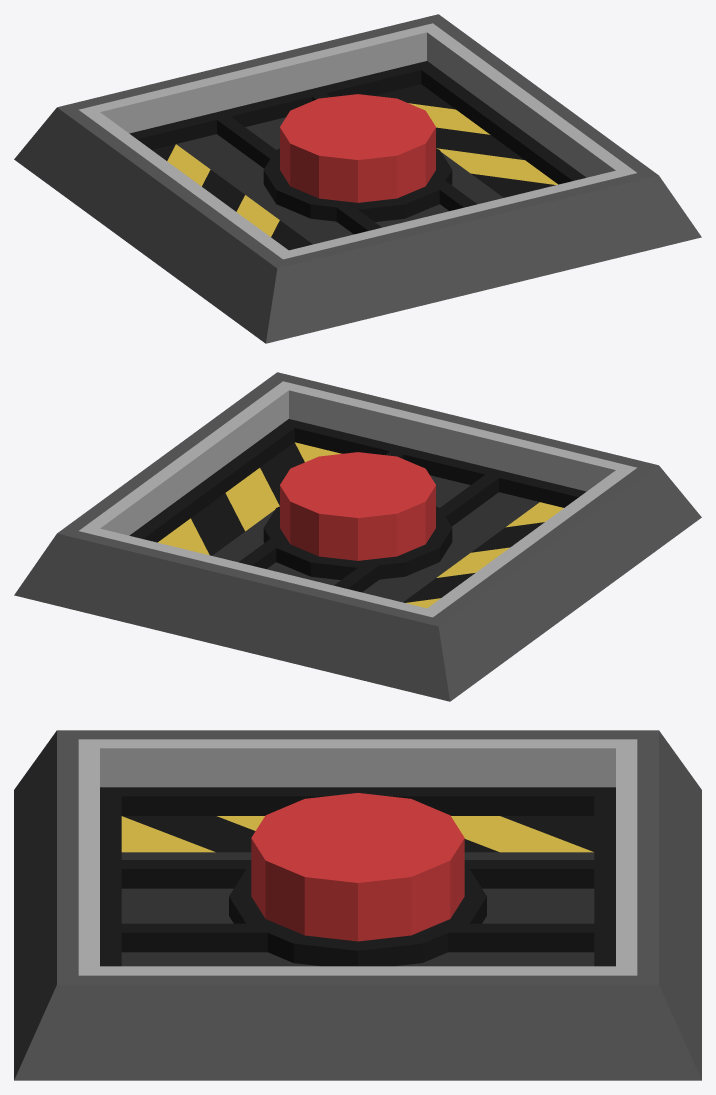
Rendered from starboundbuttonlol.obj.
3 renders of one model, top to bottom at view 1: azimuth 30°, elevation 25°; view 2: azimuth 150°, elevation 25°; view 3: azimuth 270°, elevation 25°, orthographic. The views are drawn at different scales.
Visible parts, largest first — view 1: Plane, Plane.001, Circle.001, Plane.002, Circle; view 2: Plane, Plane.001, Circle.001, Plane.002, Circle; view 3: Plane, Plane.001, Circle.001, Plane.002, Circle.
Part boxes in pixels (x1,y1,x2,y2): Plane: (14, 14, 701, 343); Plane.001: (129, 61, 586, 244); Circle.001: (280, 94, 435, 202); Plane.002: (152, 84, 557, 250); Circle: (263, 148, 452, 221); Plane: (14, 372, 701, 701); Plane.001: (129, 419, 586, 602); Circle.001: (280, 452, 435, 560); Plane.002: (158, 442, 563, 608); Circle: (263, 506, 452, 579); Plane: (14, 730, 701, 1080); Plane.001: (100, 787, 615, 966); Circle.001: (251, 793, 464, 941); Plane.002: (121, 816, 594, 852); Circle: (229, 867, 486, 966).
Size of the model in its own units: 2 by 0.3125 by 2.
